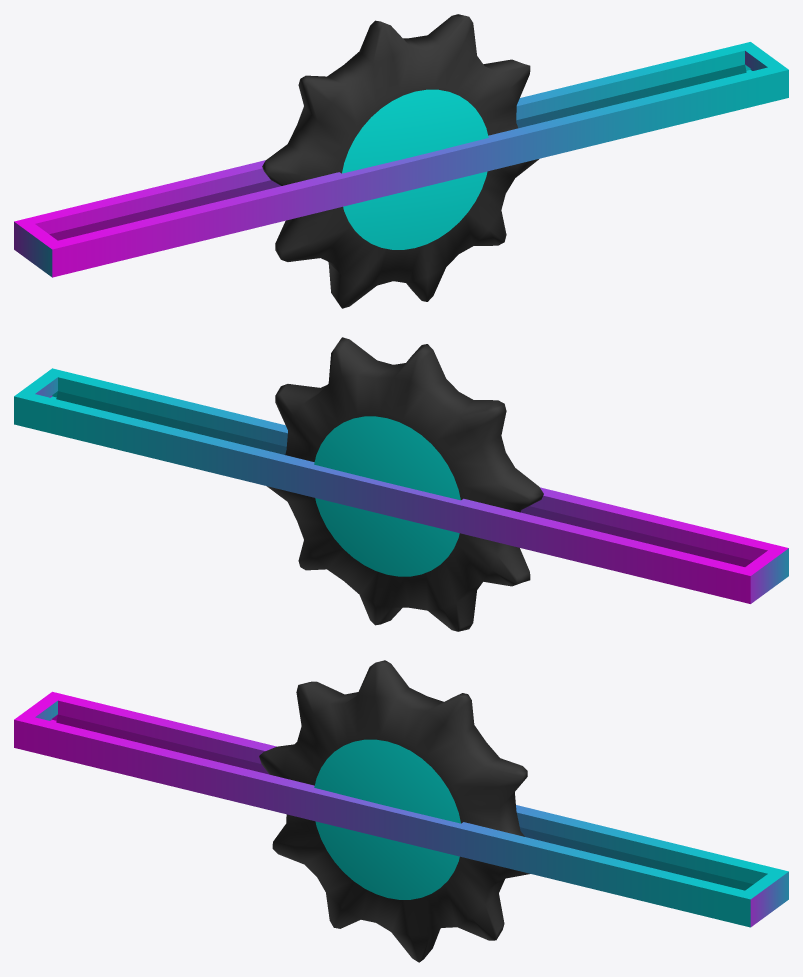
The model's file is ETC0310013.fbx.
3 renders of one model, top to bottom at view 1: azimuth 30°, elevation 25°; view 2: azimuth 150°, elevation 25°; view 3: azimuth 330°, elevation 25°, orthographic.
Parts seen in each view (by area): view 1: smETC0310013; view 2: smETC0310013; view 3: smETC0310013.
Part boxes in pixels (x1,y1,x2,y2): smETC0310013: (14,14,788,308); smETC0310013: (14,337,788,631); smETC0310013: (14,660,788,962).
Size of the model in its own units: 149 by 55.97 by 13.42.
Materials: 1 (1 with a texture image).
